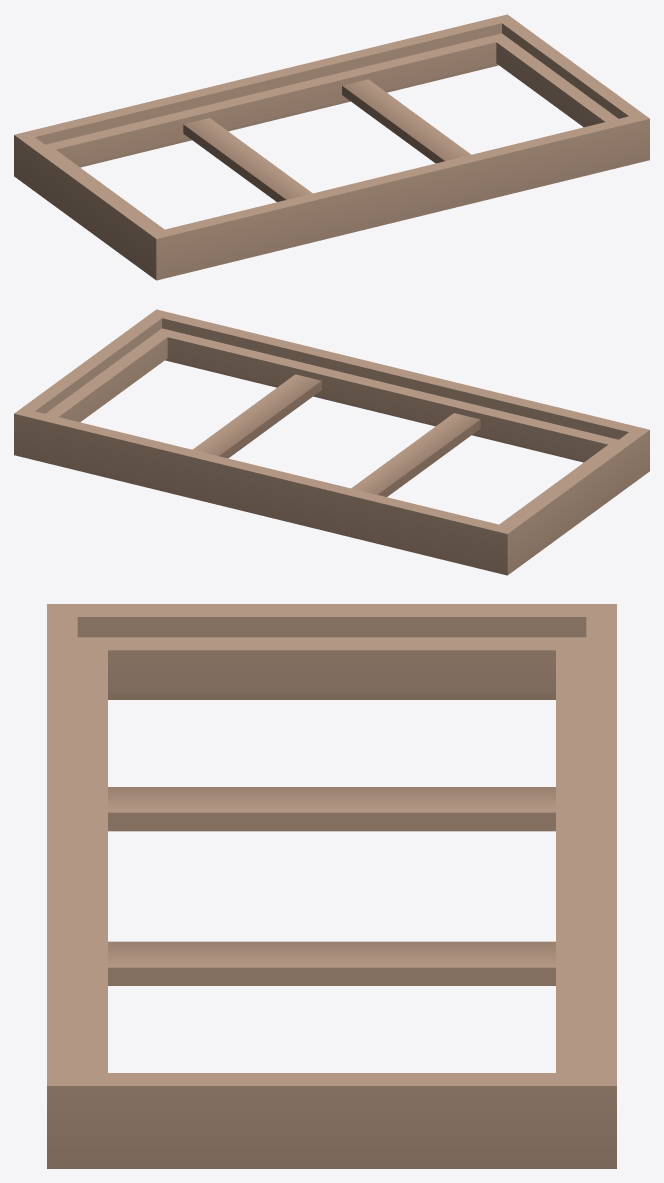
Rendered from roof-window-long-double.glb.
3 renders of one model, top to bottom at view 1: azimuth 30°, elevation 25°; view 2: azimuth 150°, elevation 25°; view 3: azimuth 270°, elevation 25°, orthographic. The views are drawn at different scales.
Visible parts, largest first — view 1: roof-window-long-double; view 2: roof-window-long-double; view 3: roof-window-long-double.
Part boxes in pixels (x1=…): roof-window-long-double: x1=14, y1=14, x2=649, y2=280; roof-window-long-double: x1=14, y1=309, x2=649, y2=575; roof-window-long-double: x1=47, y1=604, x2=616, y2=1168.
Bounding box in the file's own units: 1.87 × 0.15 × 0.9333.
